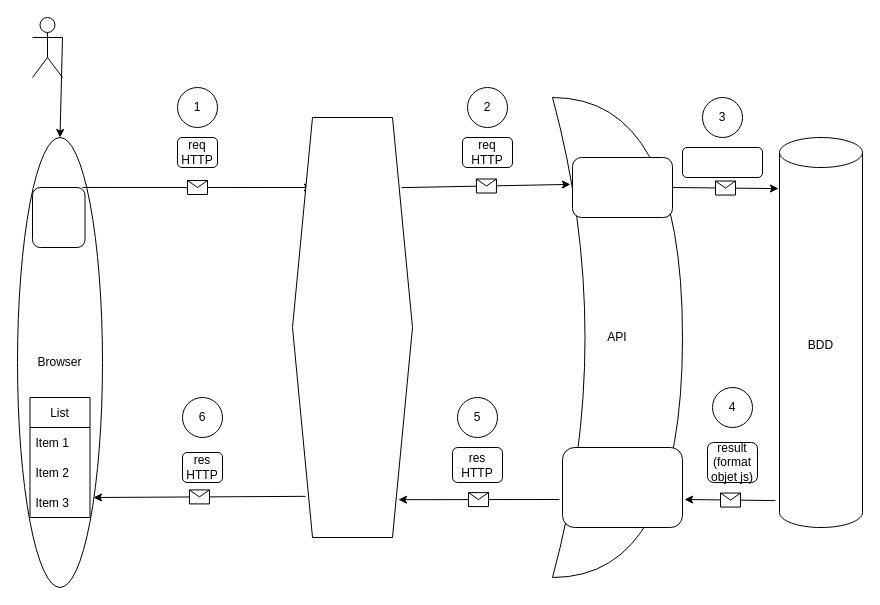
Some shapes in this 880 by 605 pixel diagram are drawn without their labels. The centre of each missing label's shape, as x and y in pixels:
Button: show all list: the point at 58,217
frontend: the point at 352,327
function : List.findAll(): the point at 622,187
JSON. stringify(result): the point at 622,487
request SQL: the point at 722,162
User: the point at 47,47
